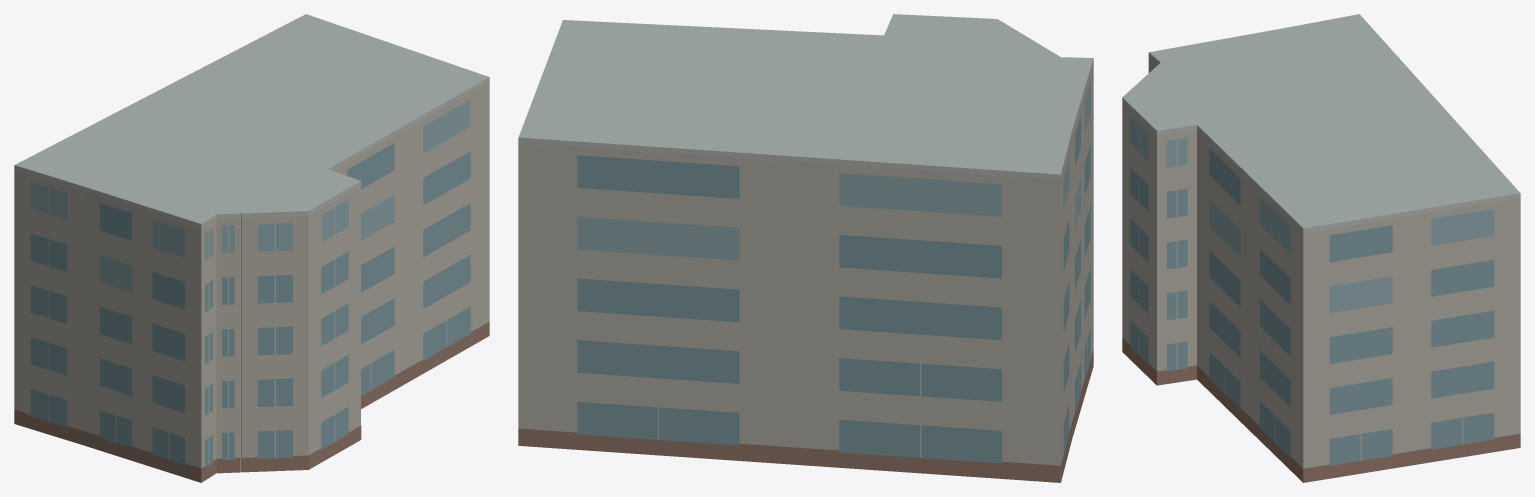
File: survey-upis-32739751.glb
3 renders of one model, left to right at view 1: azimuth 30°, elevation 25°; view 2: azimuth 150°, elevation 25°; view 3: azimuth 270°, elevation 25°, orthographic. The views are drawn at different scales.
Visible parts, largest first — view 1: survey-upis-32739751.tmp; view 2: survey-upis-32739751.tmp; view 3: survey-upis-32739751.tmp.
Boxes of the visible parts, bbox=[...] form: survey-upis-32739751.tmp: bbox=[14, 14, 489, 482]; survey-upis-32739751.tmp: bbox=[518, 14, 1093, 482]; survey-upis-32739751.tmp: bbox=[1122, 14, 1520, 482].
Bounding box in the file's own units: 23.84 × 13.2 × 18.73.
